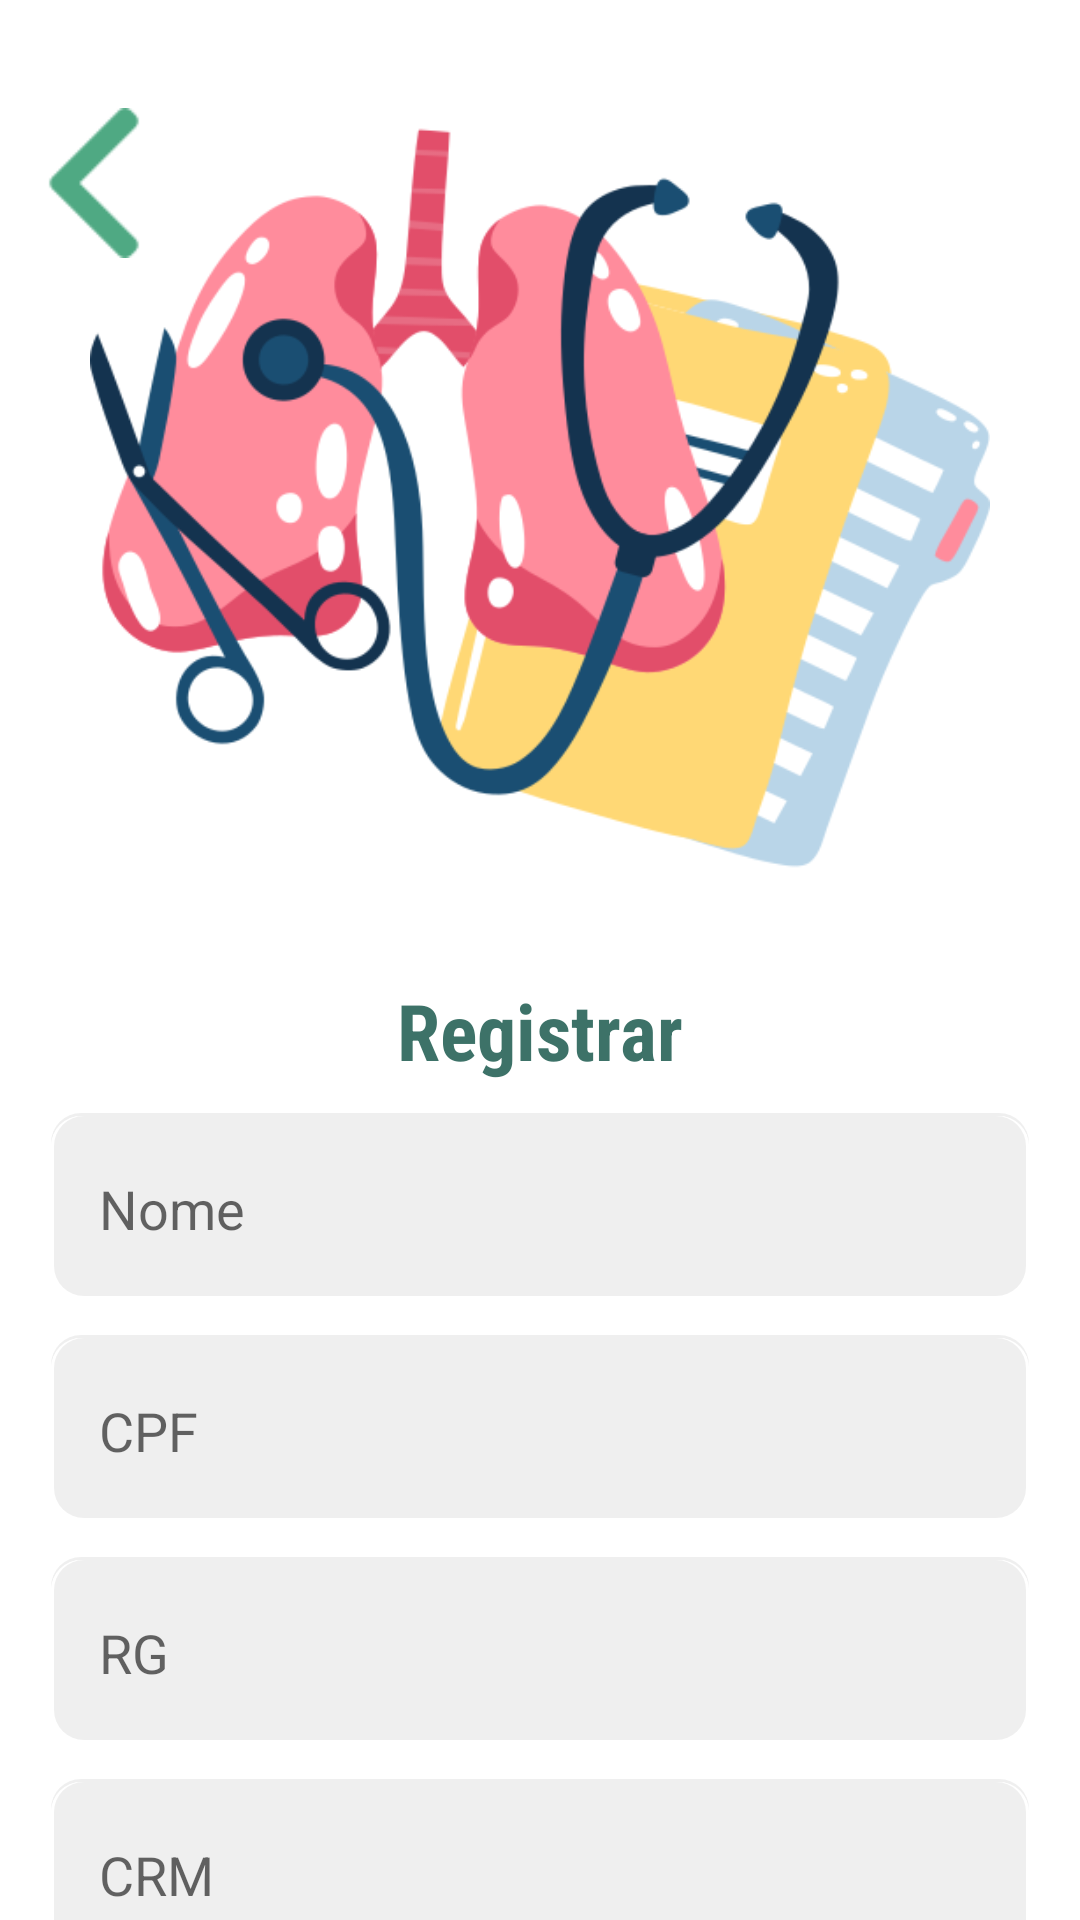

Icons on this 1080*1920 Android screen, each with the point to tap as (x=x, y=y):
setavoltar: (x=94, y=183)
